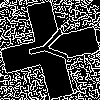Y: (25, 25, 78, 69)
